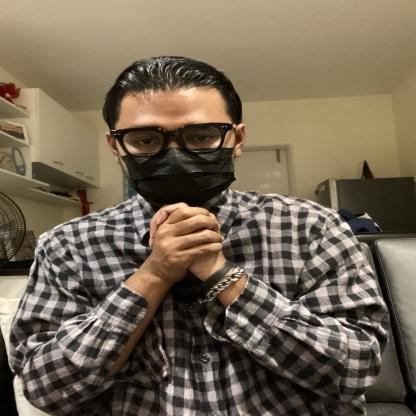Grieve: (80, 180, 325, 324)
